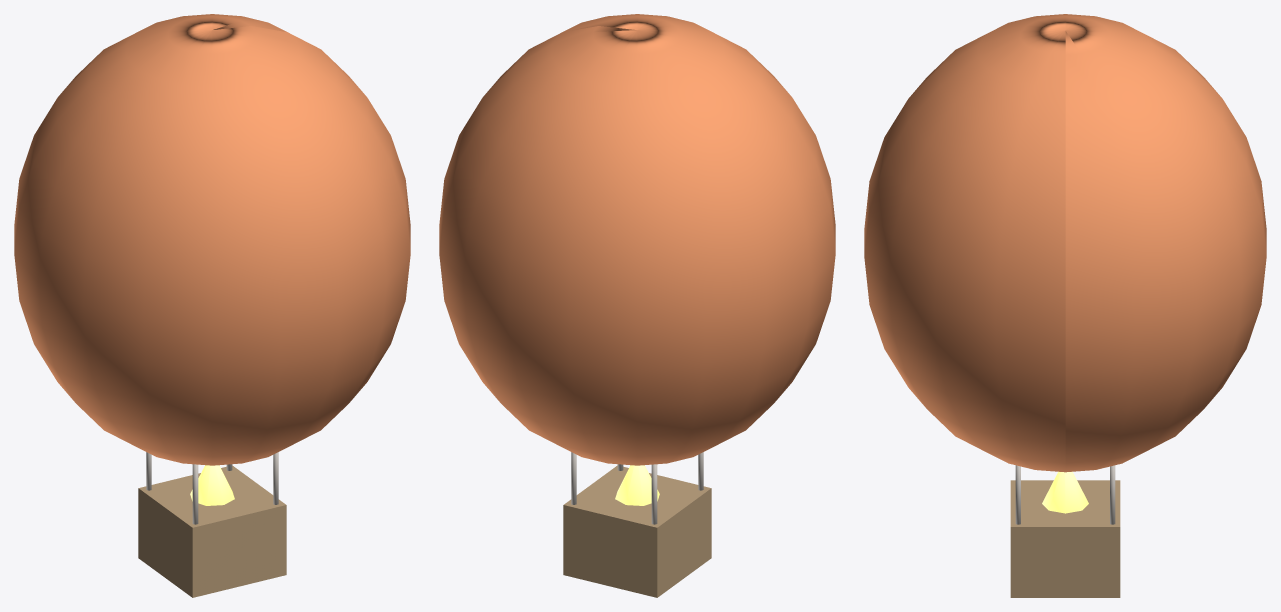
3 views of the same model, side by side, from view 1: azimuth 30°, elevation 25°; view 2: azimuth 150°, elevation 25°; view 3: azimuth 270°, elevation 25° (orthographic).
Parts seen in each view (by area): view 1: Generated3DMesh; view 2: Generated3DMesh; view 3: Generated3DMesh.
Part boxes in pixels (box(x1,y1,x2,y2)): Generated3DMesh: box(14, 14, 410, 597); Generated3DMesh: box(439, 14, 835, 597); Generated3DMesh: box(864, 14, 1266, 597).
Bounding box in the file's own units: 2.6 × 3.83 × 2.56.
